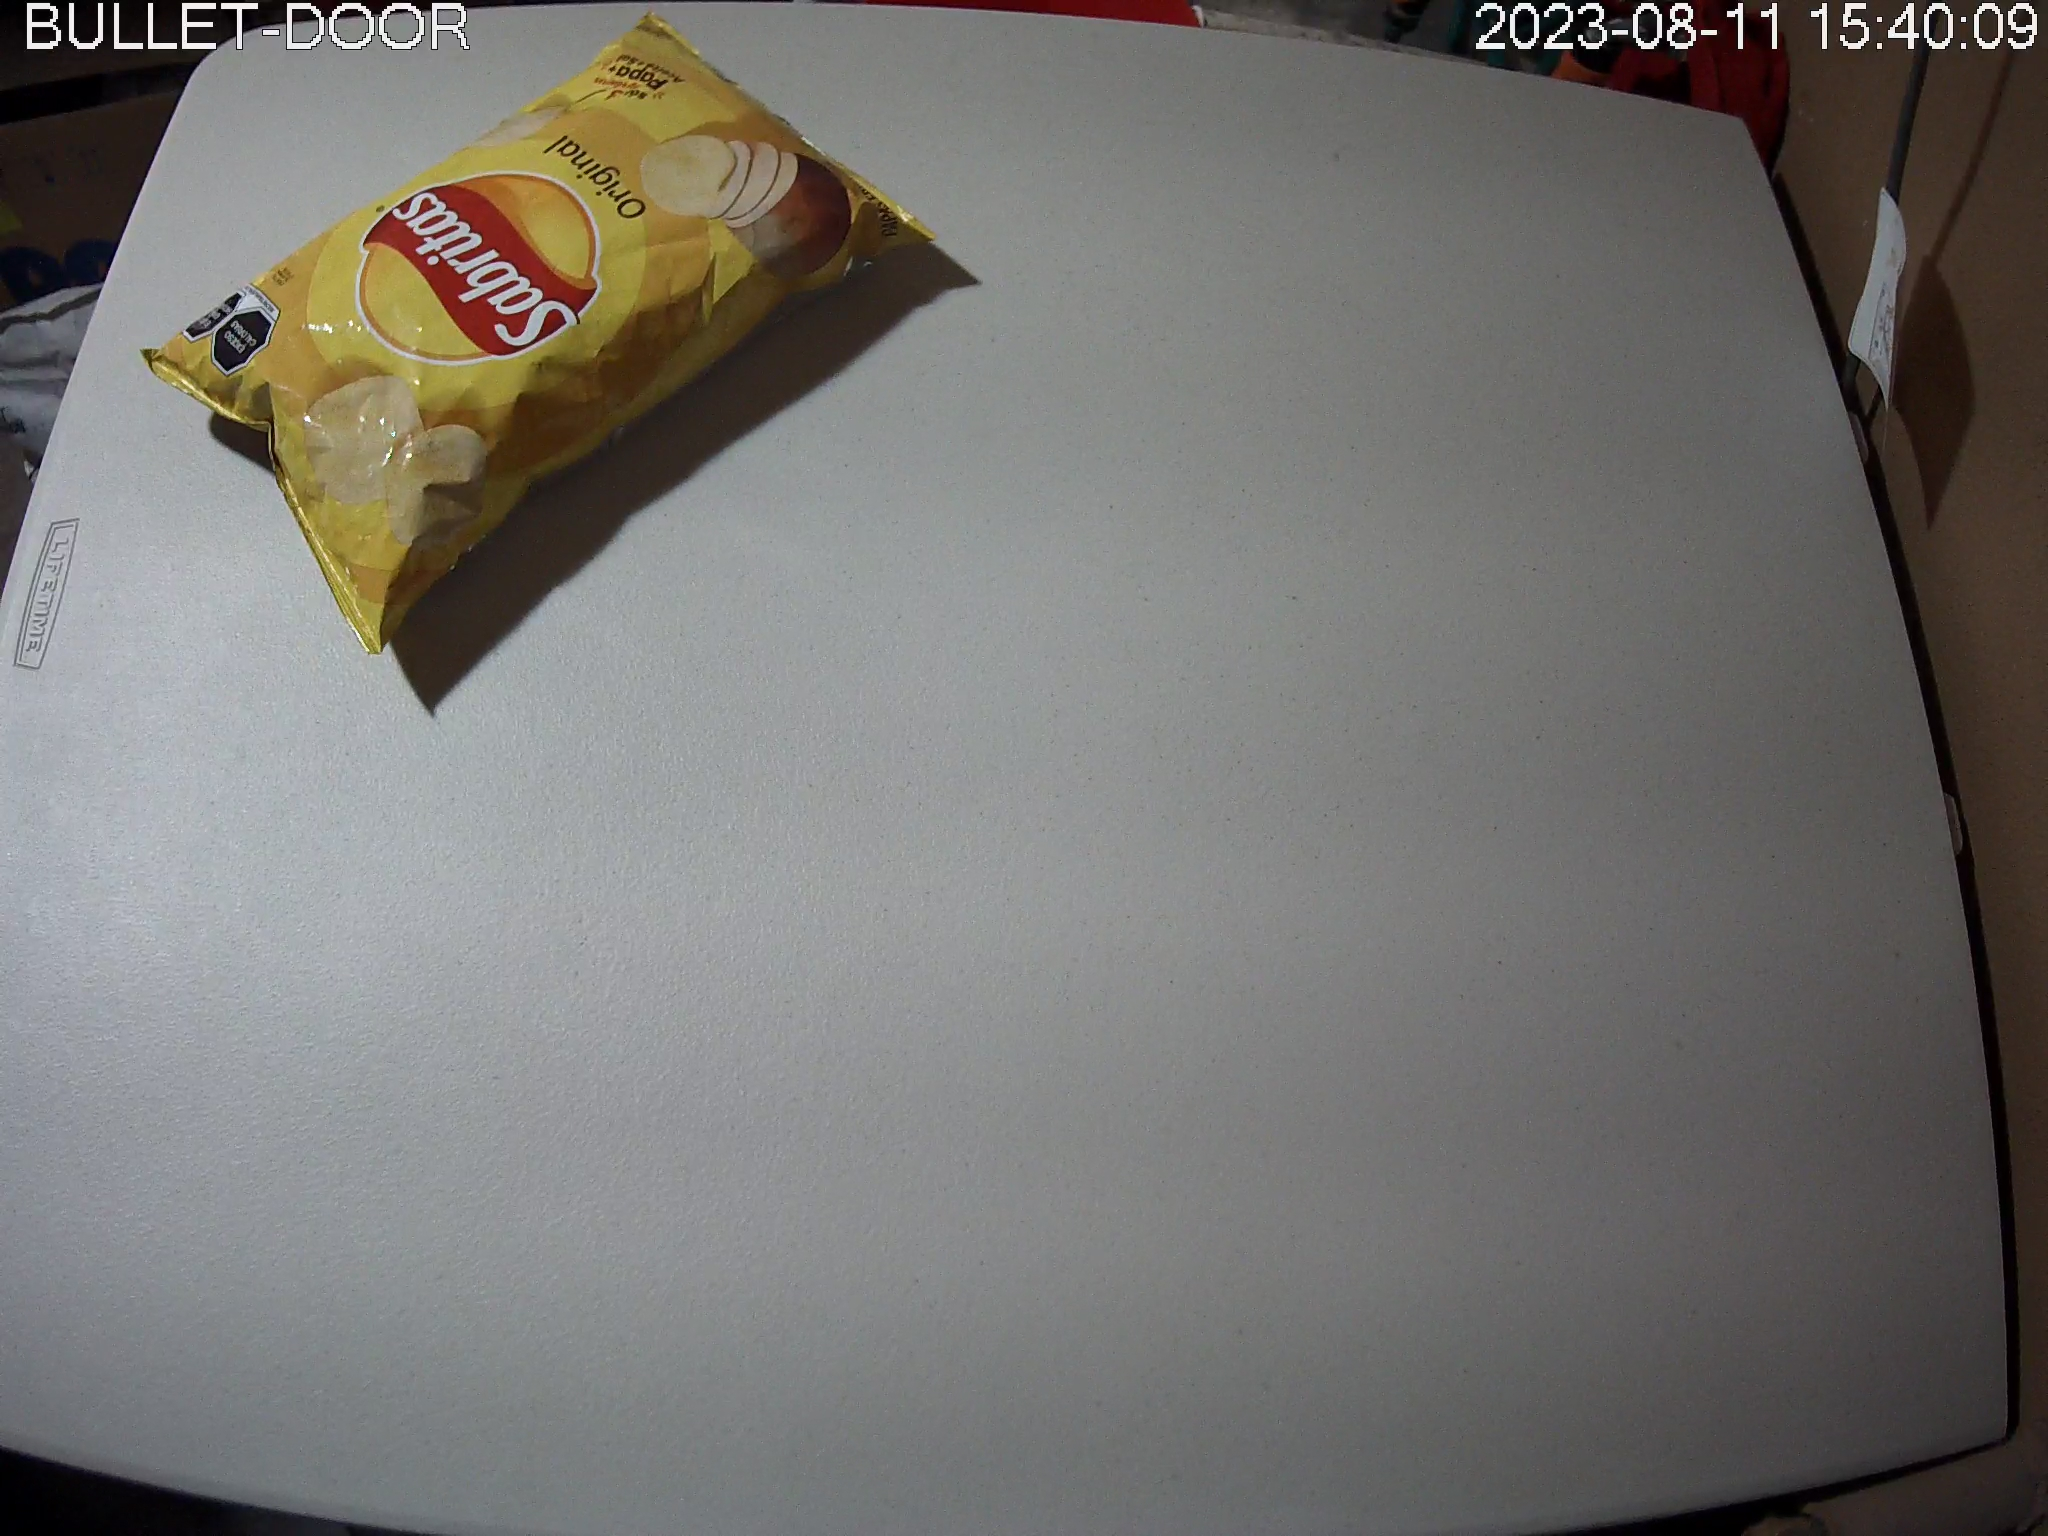Sabritas_160_F: (144, 8, 942, 658)
